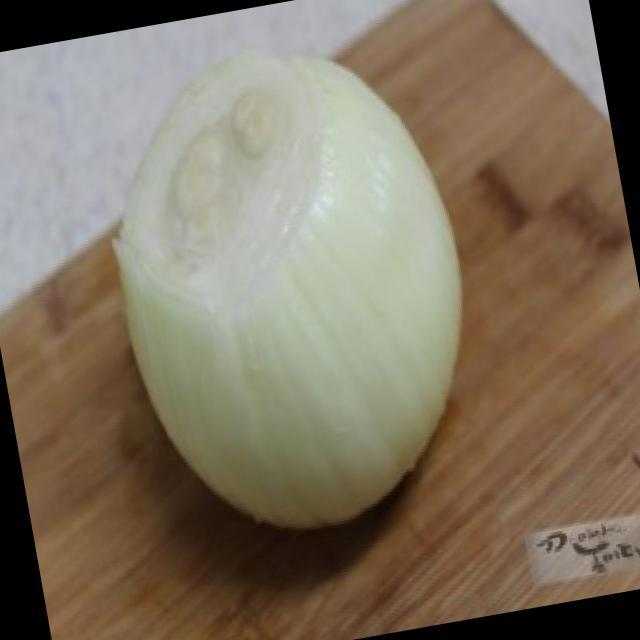Onion: (117, 52, 464, 534)
